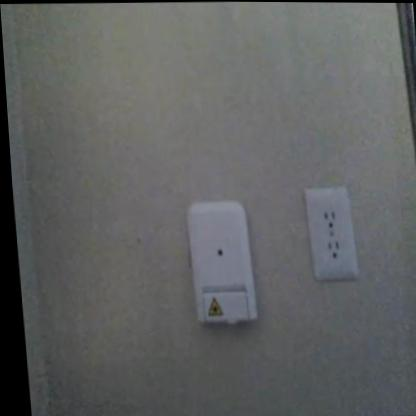OUTLET: (303, 185, 359, 281)
